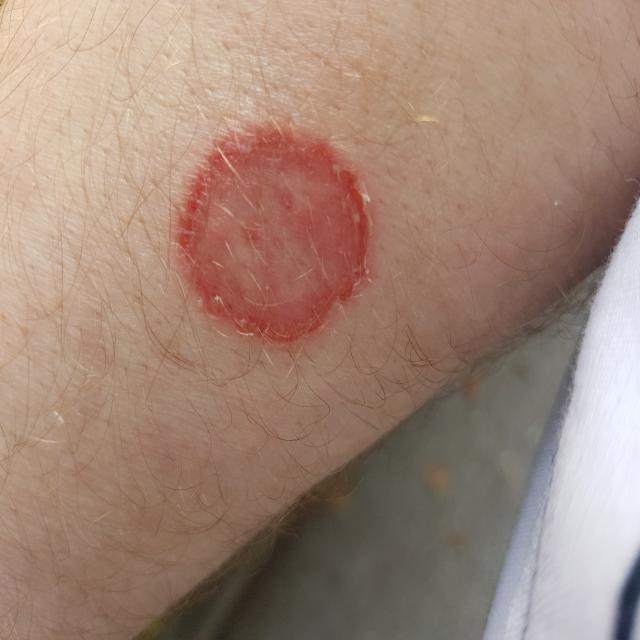tinea: (171, 109, 381, 368)
